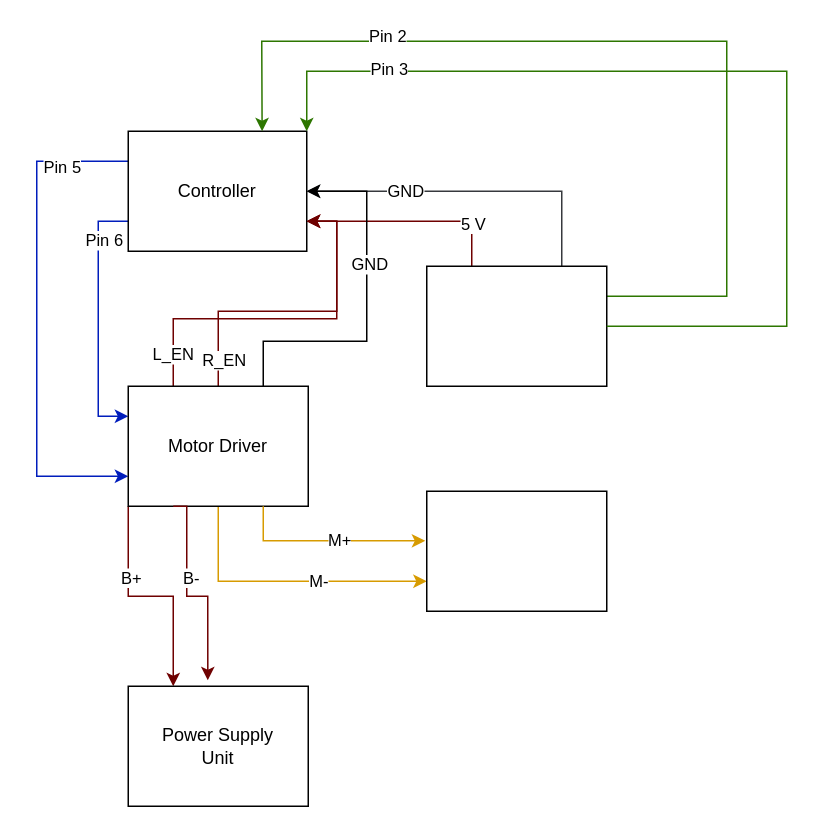
Image size: 825x833. Some labels were removed from this diagram. Each missing label, with the centre of its shape:
"Encoder" belongs at point (516, 325).
"Motor" belongs at point (516, 550).
